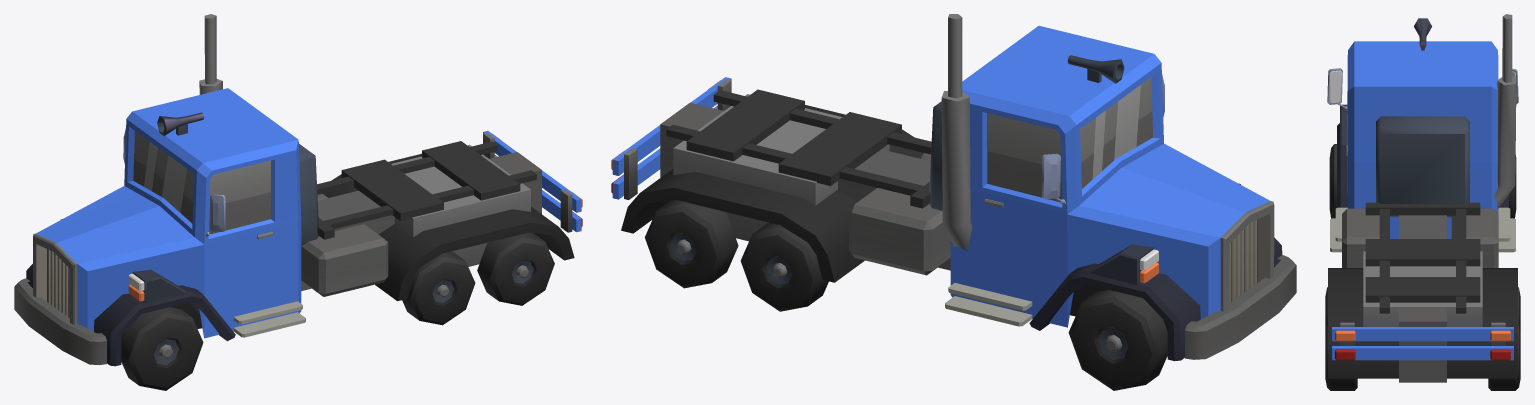
The model's file is Truck_H.gltf.
3 renders of one model, left to right at view 1: azimuth 30°, elevation 25°; view 2: azimuth 150°, elevation 25°; view 3: azimuth 270°, elevation 25°, orthographic. The views are drawn at different scales.
Parts seen in each view (by area): view 1: Truck_H, FL, RM, ML; view 2: Truck_H, FR, RL, MR; view 3: Truck_H, RL, RM, FL, FR.
Part boxes in pixels (<box>): Truck_H: <box>14,14,582,366</box>; FL: <box>121,307,203,390</box>; RM: <box>477,232,554,305</box>; ML: <box>402,251,475,325</box>; Truck_H: <box>611,14,1296,361</box>; FR: <box>1068,290,1167,390</box>; RL: <box>645,200,738,288</box>; MR: <box>740,223,828,311</box>; Truck_H: <box>1327,14,1518,382</box>; RL: <box>1488,325,1520,390</box>; RM: <box>1325,325,1357,390</box>; FL: <box>1329,144,1336,218</box>; FR: <box>1509,155,1516,218</box>.
Size of the model in its own units: 5.24 by 2.81 by 1.85.
Materials: 4 (4 with a texture image).
